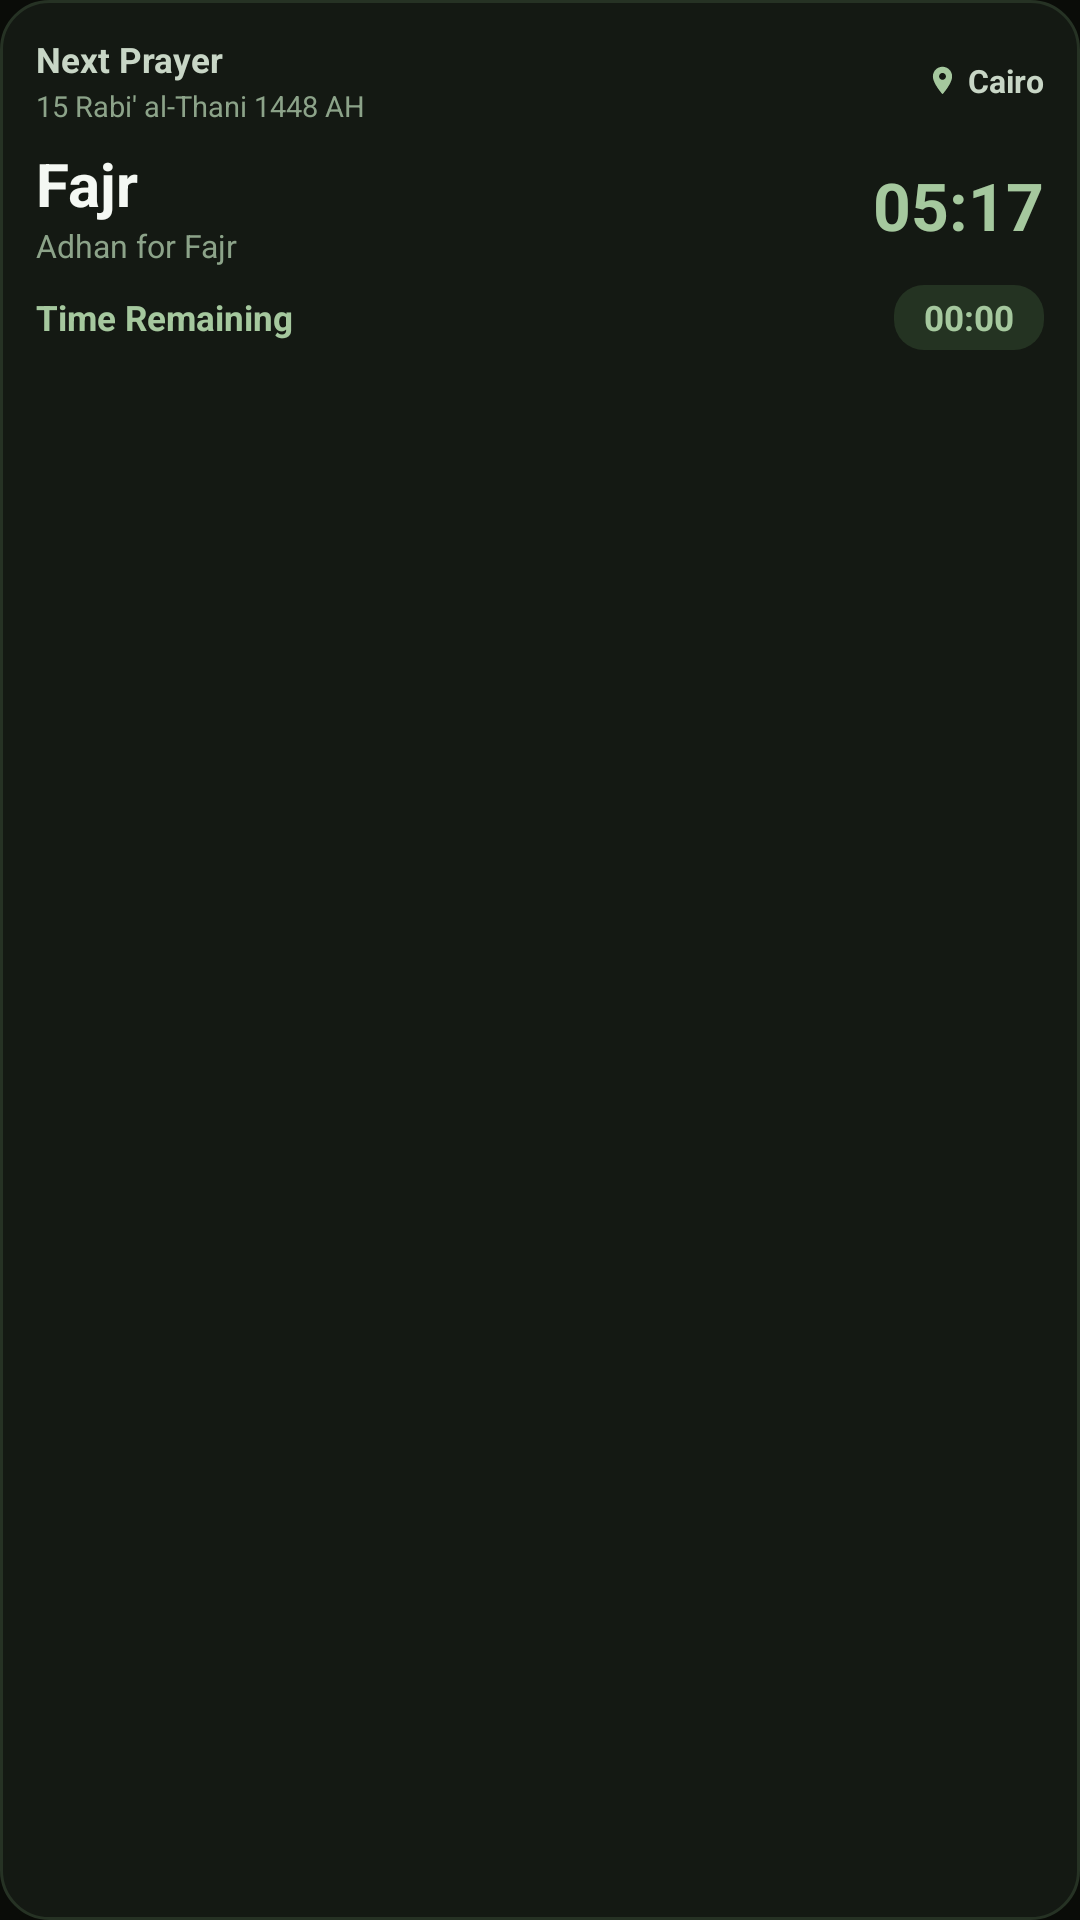

Screen size 1080 × 1920. Icon name, then its box in pixels as box(x1, y1, x2, y2):
location pin: box(933, 66, 952, 94)
